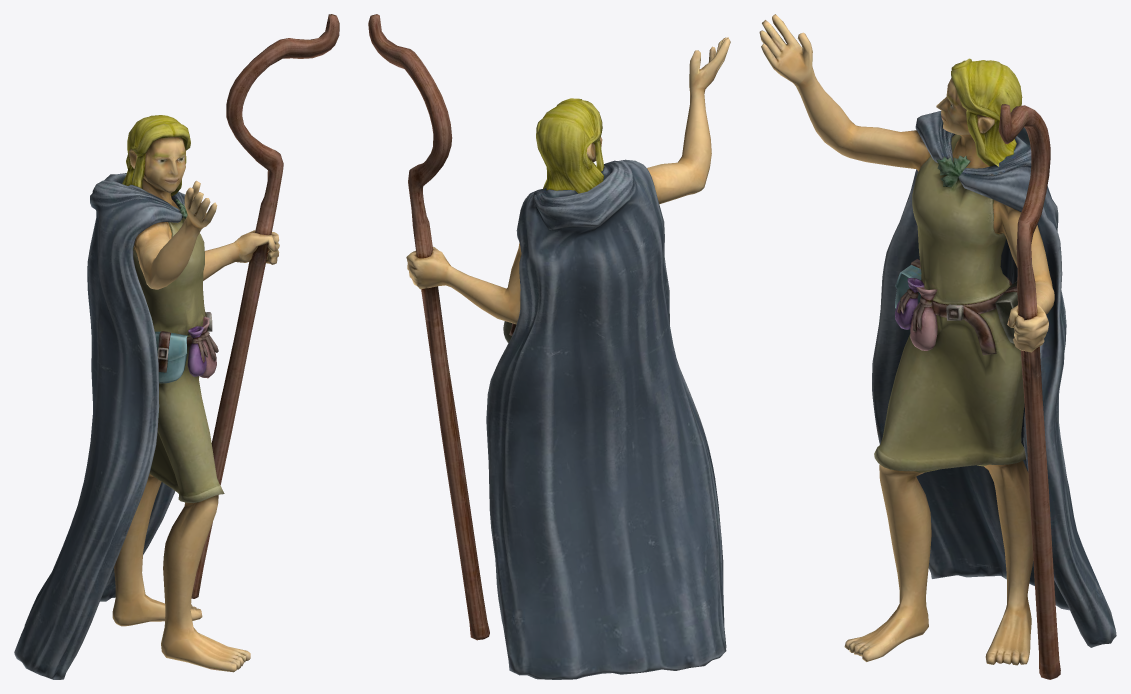
The model's file is MZ4250 - Druid Human Female 02.glb.
3 renders of one model, left to right at view 1: azimuth 30°, elevation 25°; view 2: azimuth 150°, elevation 25°; view 3: azimuth 270°, elevation 25°, orthographic. The views are drawn at different scales.
Visible parts, largest first — view 1: DruidFemale01; view 2: DruidFemale01; view 3: DruidFemale01.
Boxes of the visible parts, box(x1,y1,x2,y2) form: DruidFemale01: box(14, 14, 339, 679); DruidFemale01: box(368, 14, 730, 679); DruidFemale01: box(759, 14, 1116, 679).
Bounding box in the file's own units: 0.6697 × 1.1 × 0.5568.
Materials: 1 (1 with a texture image).
